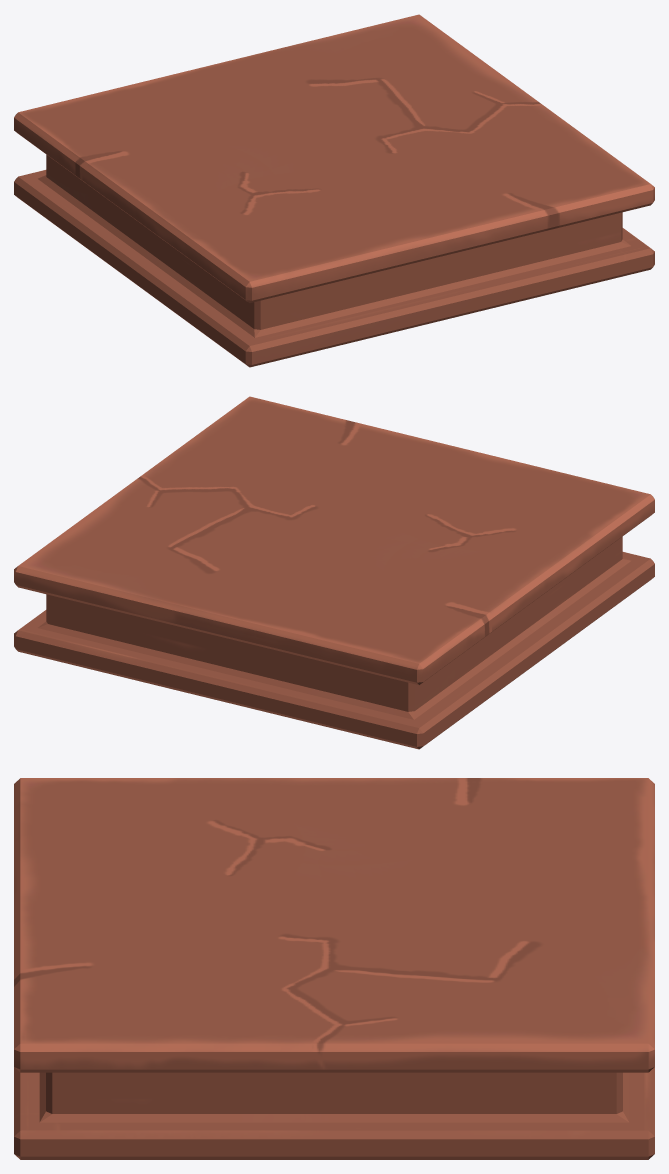
File: temple102.obj
3 renders of one model, top to bottom at view 1: azimuth 30°, elevation 25°; view 2: azimuth 150°, elevation 25°; view 3: azimuth 270°, elevation 25°, orthographic. The views are drawn at different scales.
Parts seen in each view (by area): view 1: Platform_High_2; view 2: Platform_High_2; view 3: Platform_High_2.
Boxes of the visible parts, left/top/right/bottom form: Platform_High_2: left=14, top=14, right=654, bottom=367; Platform_High_2: left=14, top=396, right=654, bottom=749; Platform_High_2: left=14, top=778, right=654, bottom=1159.
Size of the model in its own units: 2 by 0.4 by 2.
1 material, 1 textured.
